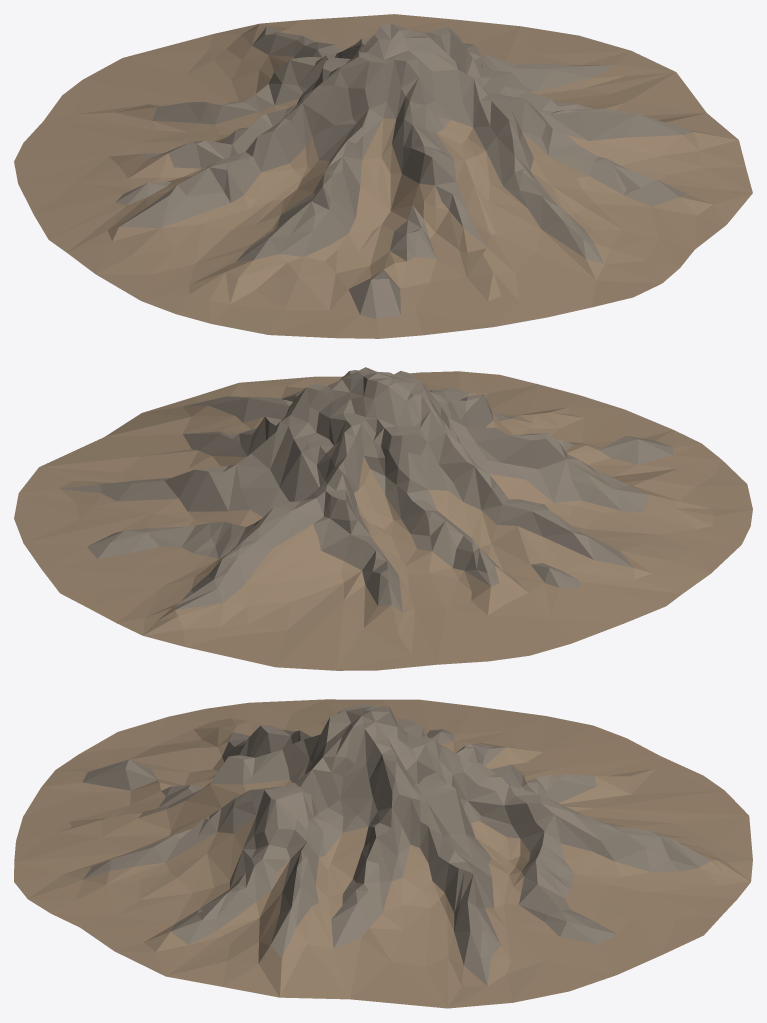
The model's file is SM_Env_Mountain_01.glb.
3 renders of one model, top to bottom at view 1: azimuth 30°, elevation 25°; view 2: azimuth 150°, elevation 25°; view 3: azimuth 270°, elevation 25°, orthographic. The views are drawn at different scales.
Parts seen in each view (by area): view 1: SM_Env_Mountain_01; view 2: SM_Env_Mountain_01; view 3: SM_Env_Mountain_01.
Boxes of the visible parts, x1,y1,x2,y2 form: SM_Env_Mountain_01: [14, 14, 752, 338]; SM_Env_Mountain_01: [14, 367, 752, 670]; SM_Env_Mountain_01: [14, 699, 752, 1008].
Bounding box in the file's own units: 63.71 × 13.97 × 64.38.
Materials: 1 (1 with a texture image).
